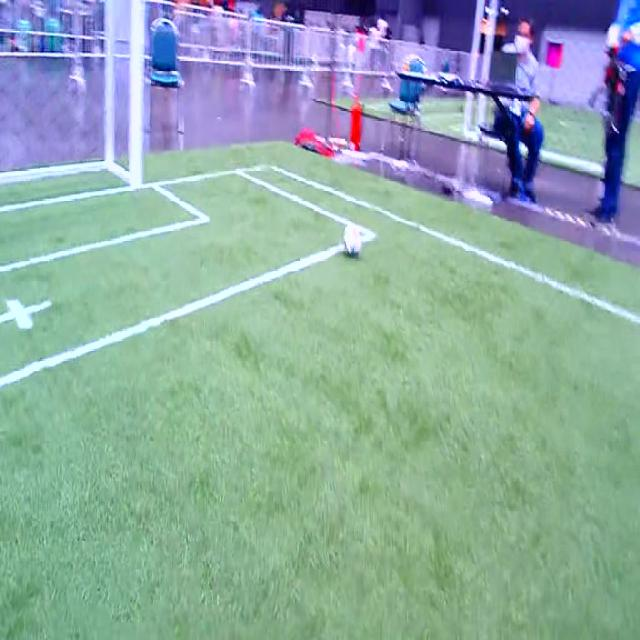ball: (343, 225, 361, 256)
